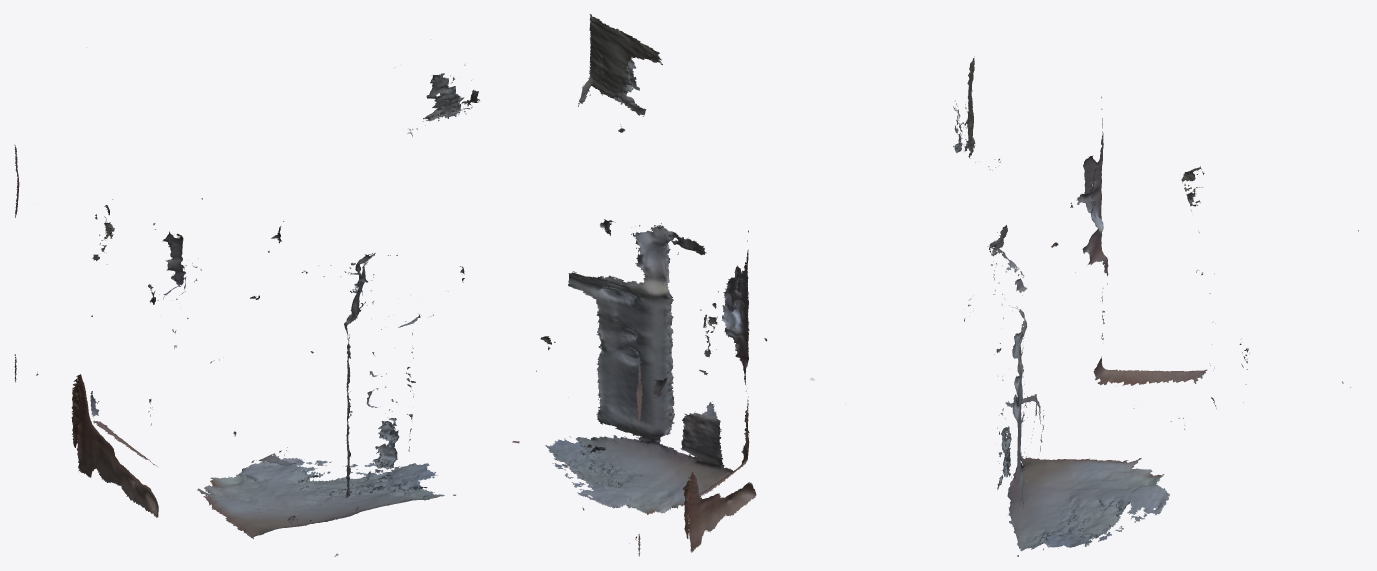
File: apartment-full-126-7e057f63c563.glb
The picture shows the model from 3 angles, left to right: view 1: azimuth 30°, elevation 25°; view 2: azimuth 150°, elevation 25°; view 3: azimuth 270°, elevation 25°; orthographic projection. The views are drawn at different scales.
Size of the model in its own units: 1.21 by 2.18 by 2.12.
